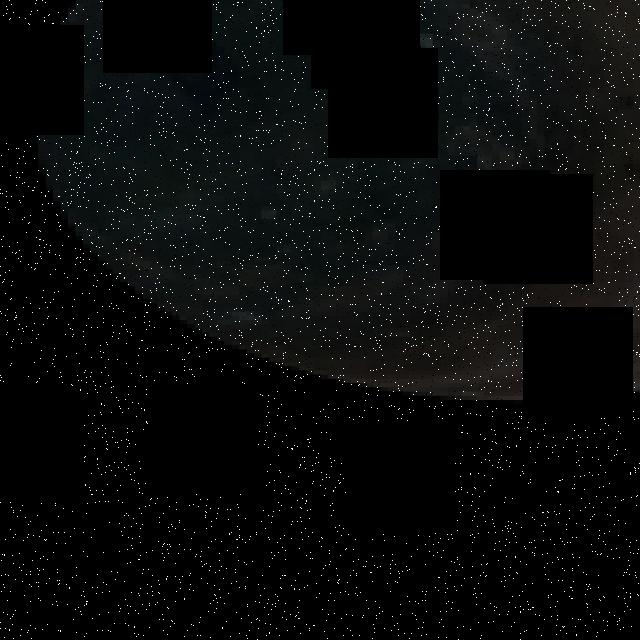Jupiter: (30, 0, 640, 400)
